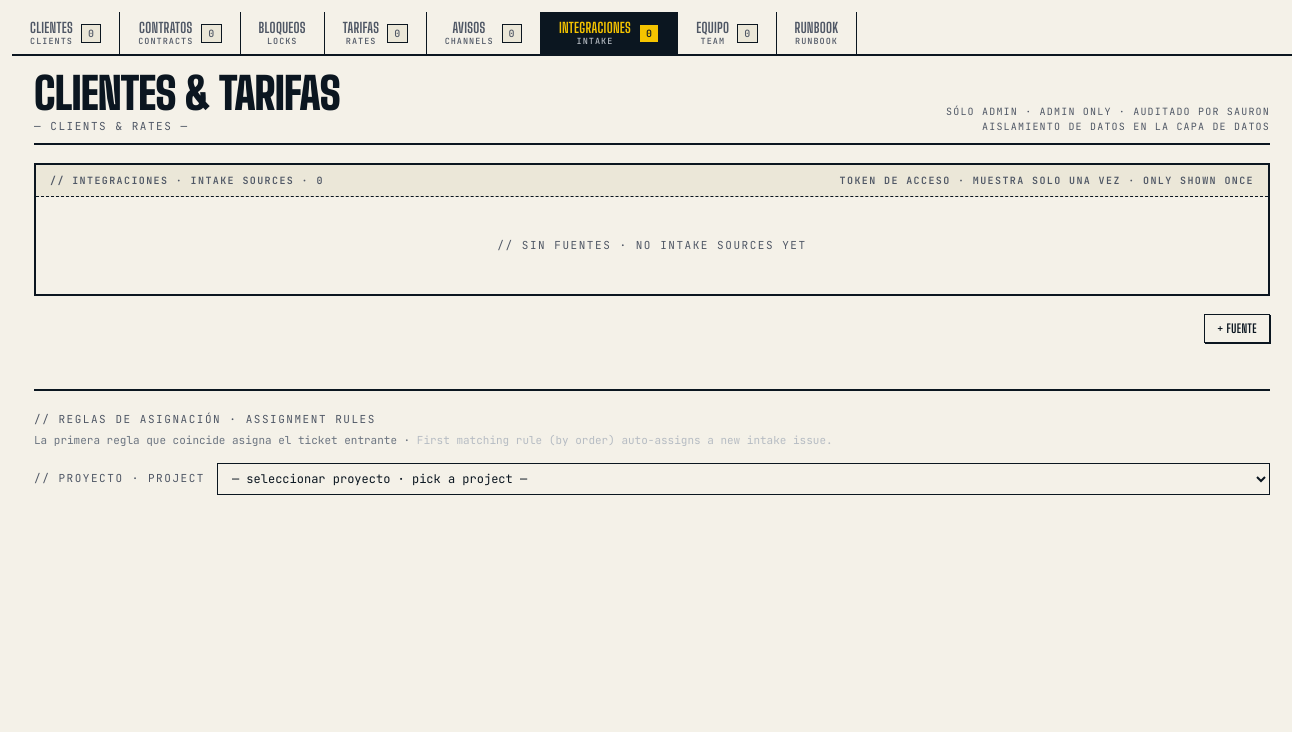
SettingsPage › shows the inline intake error when create rejects
Expected: the text "// sin fuentes · no intake sources yet" is shown, [497, 237, 807, 254]
Step 1. Click the button "+ Fuente" → {"x": 1237, "y": 329}, box [1204, 314, 1270, 343]
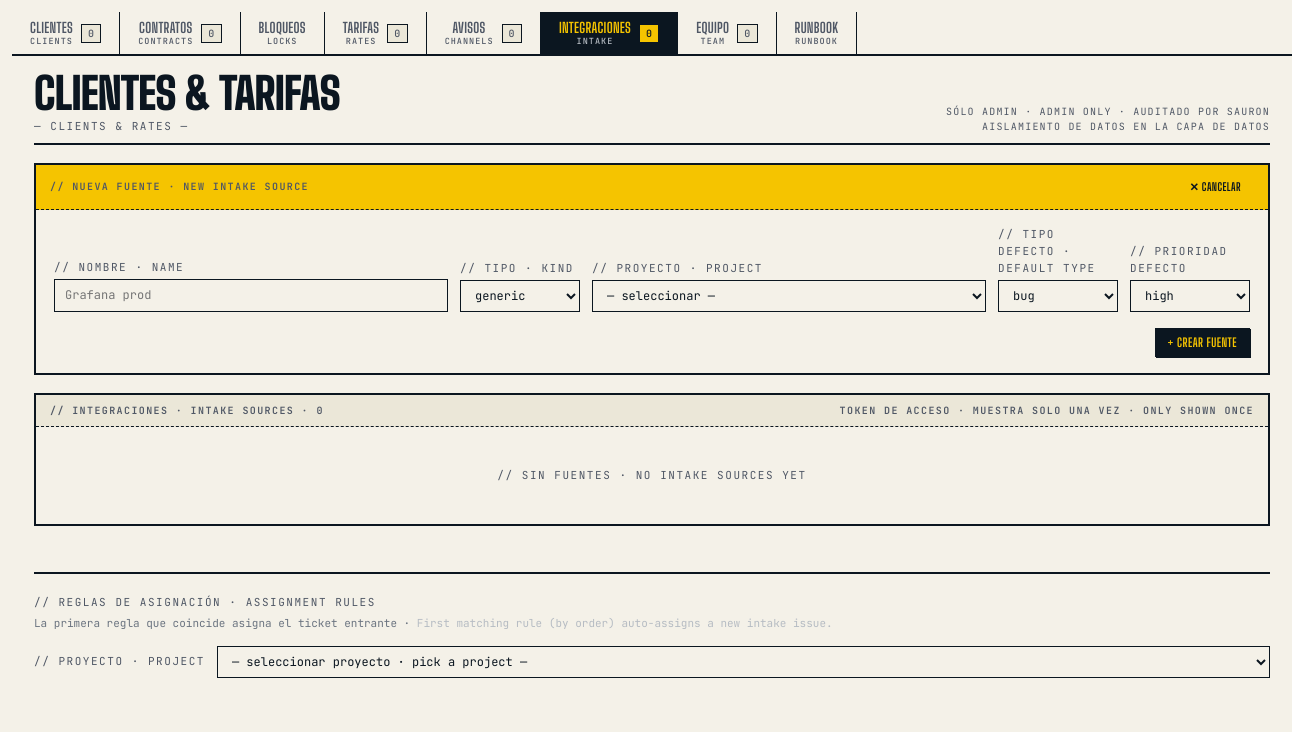
Step 2. Type "X" into the field with placeholder "Grafana prod" → {"x": 251, "y": 296}, box [54, 279, 448, 312]
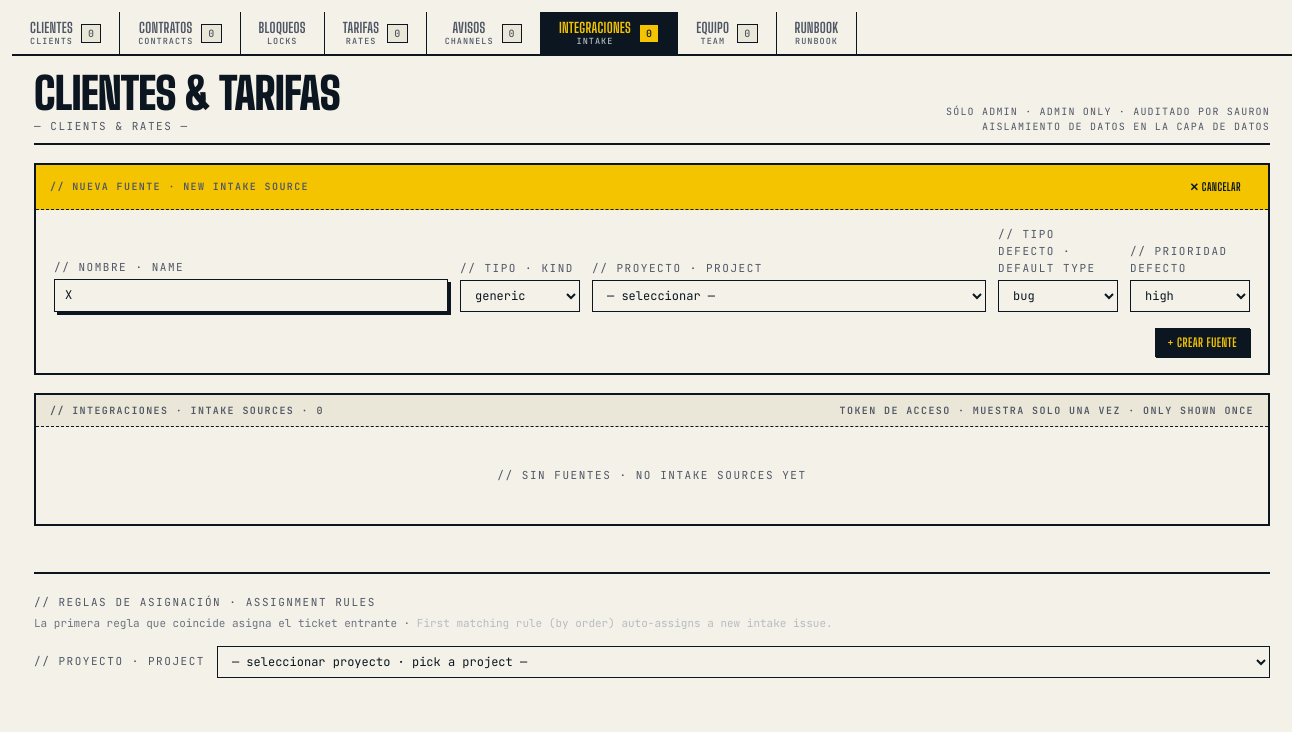
Step 3. Select "GIRA · Gira" in the 2nd dropdown named "— seleccionar —" → {"x": 789, "y": 296}, box [592, 280, 986, 312]
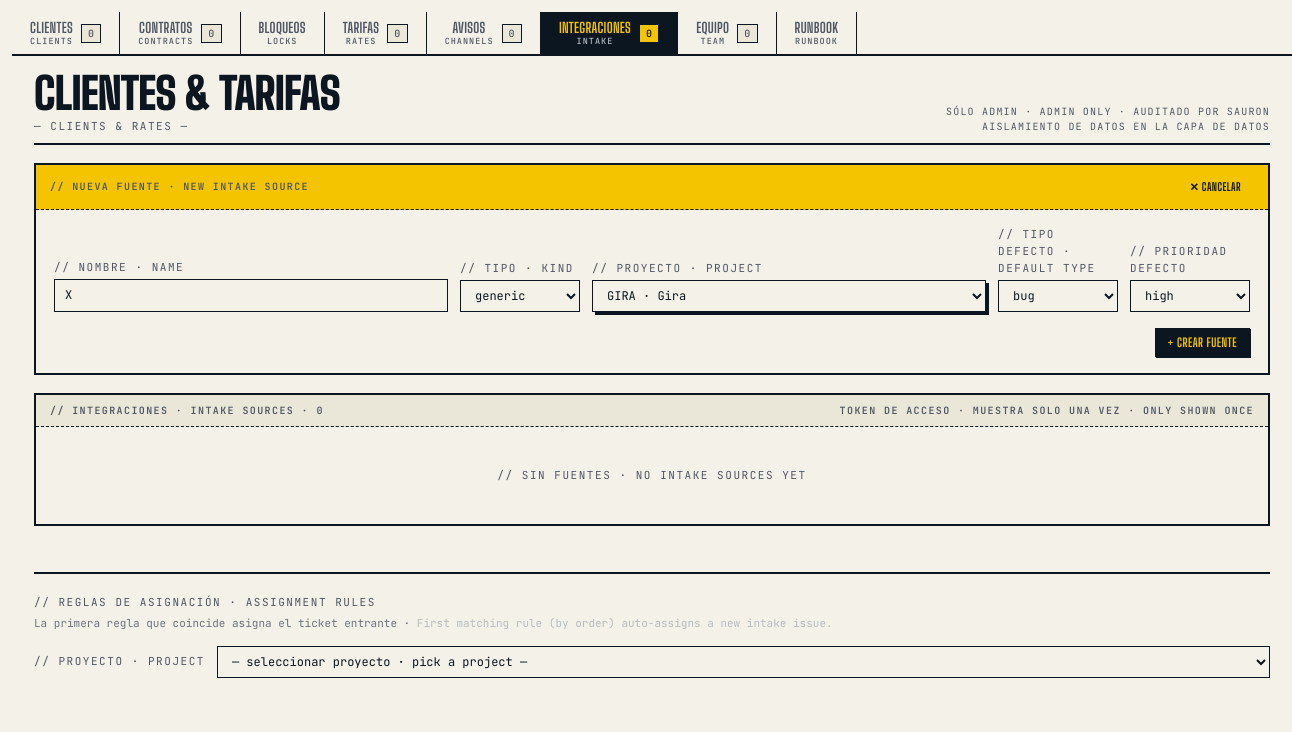
Step 4. Click the button "+ Crear Fuente" → {"x": 1202, "y": 342}, box [1155, 328, 1250, 357]
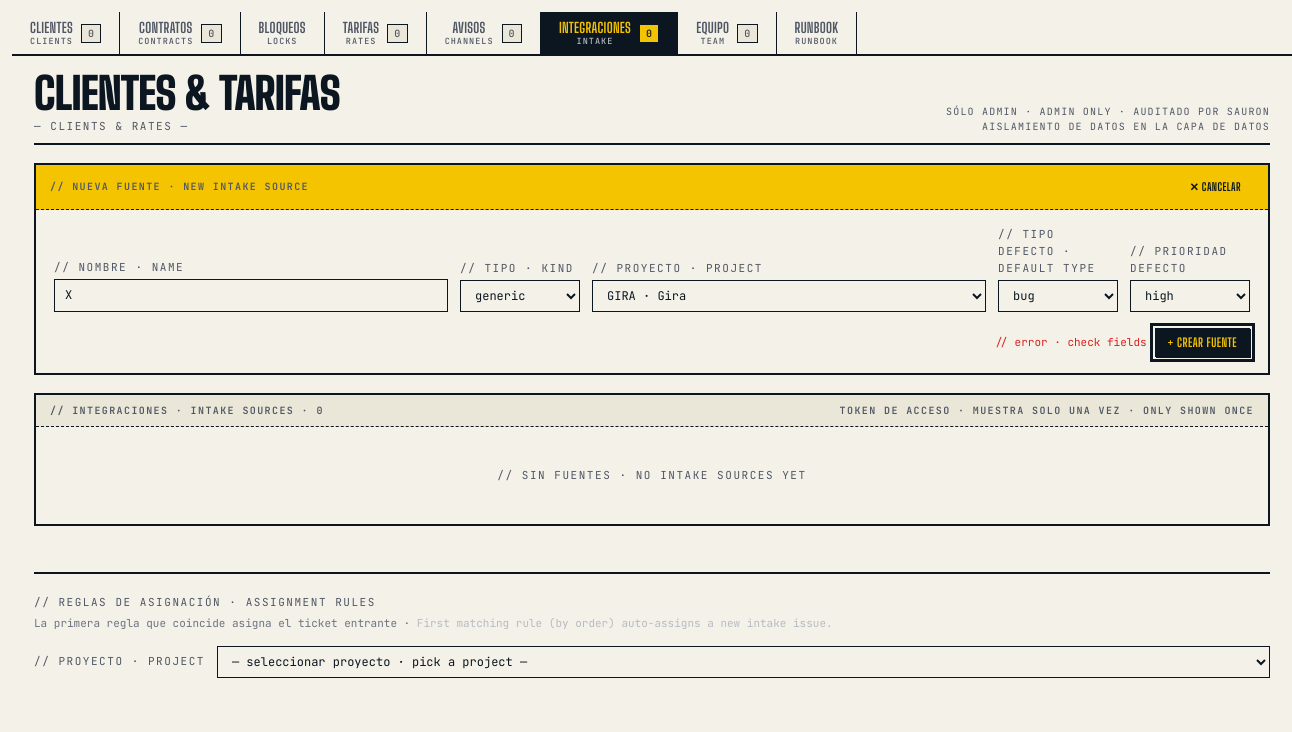
Expected: the text "// error · check fields" is shown, [995, 334, 1147, 351]
